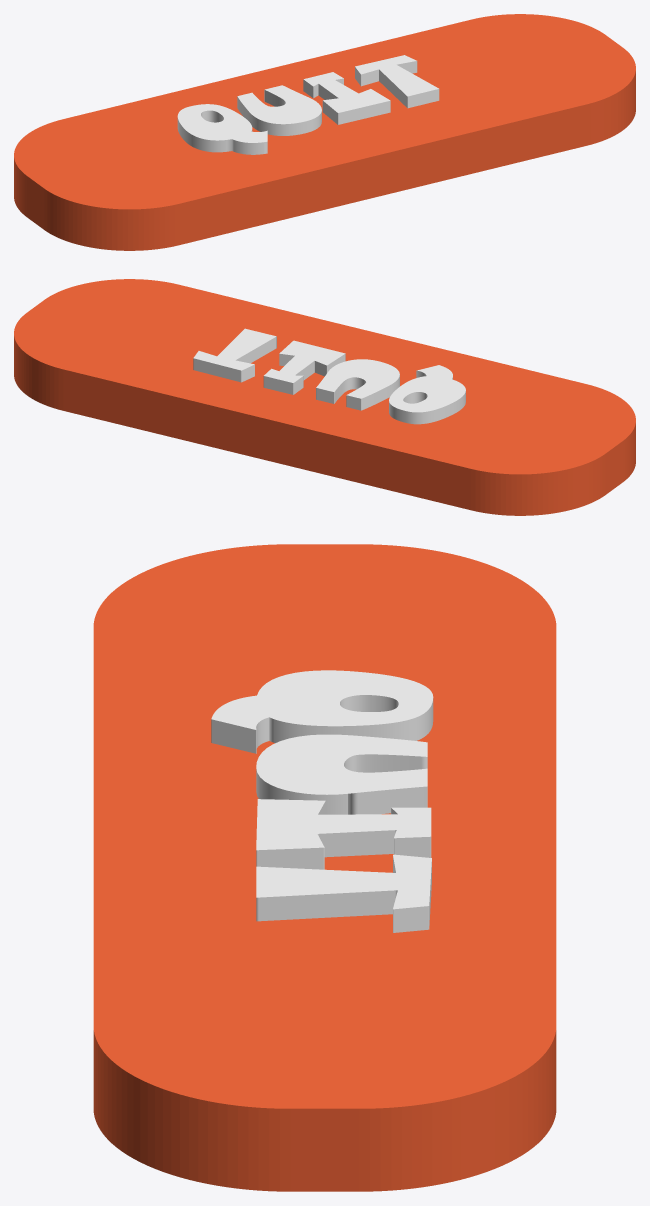
File: quit_button (1).fbx
3 views of the same model, one above another, from view 1: azimuth 30°, elevation 25°; view 2: azimuth 150°, elevation 25°; view 3: azimuth 270°, elevation 25° (orthographic). The views are drawn at different scales.
Parts seen in each view (by area): view 1: Cube.002, quit; view 2: Cube.002, quit; view 3: Cube.002, quit.
Part boxes in pixels (x1,y1,x2,y2): Cube.002: [14, 14, 635, 250]; quit: [177, 55, 439, 154]; Cube.002: [14, 279, 635, 515]; quit: [193, 328, 465, 424]; Cube.002: [93, 544, 556, 1191]; quit: [211, 670, 433, 932].
Size of the model in its own units: 831 by 73.19 by 288.
